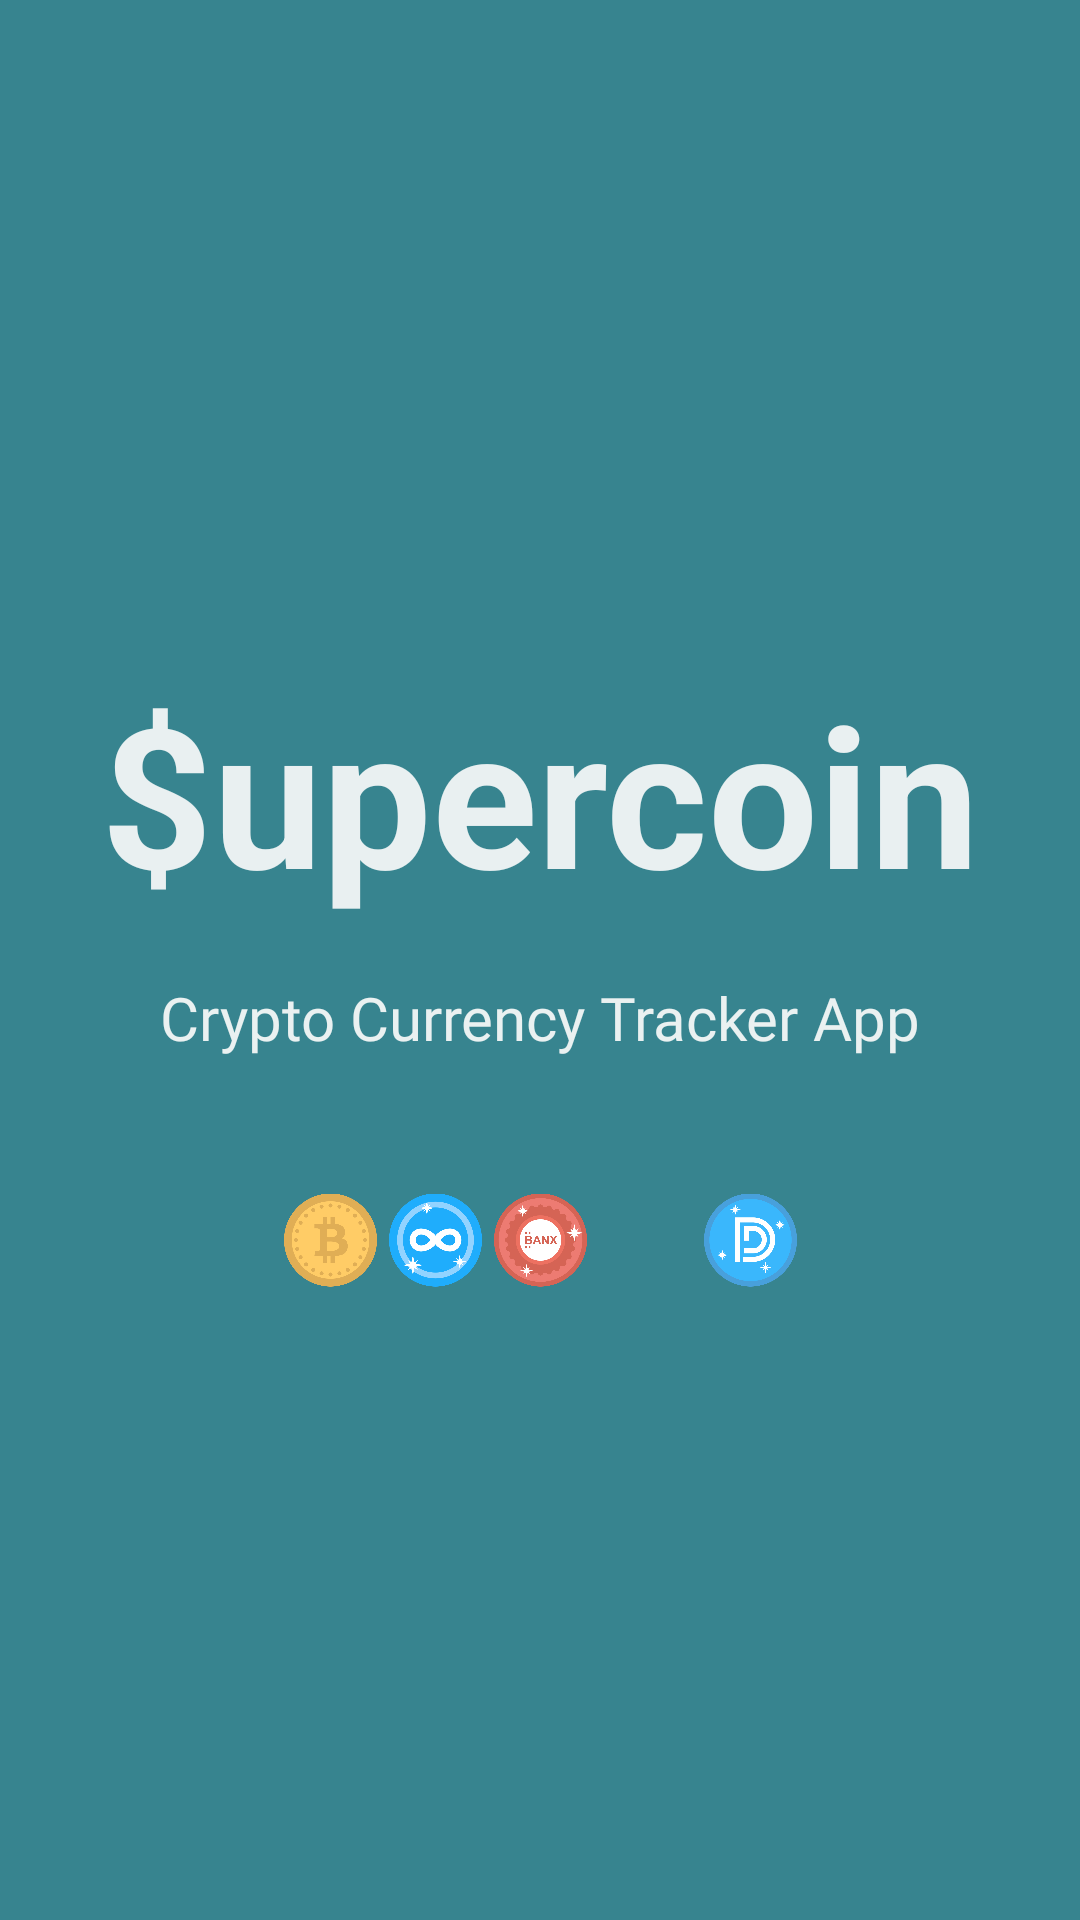

Icons on this 1080x1920 Android screen, each with the point to tap as point (x, y):
cryptocurrencyiii: point (540, 1240)
